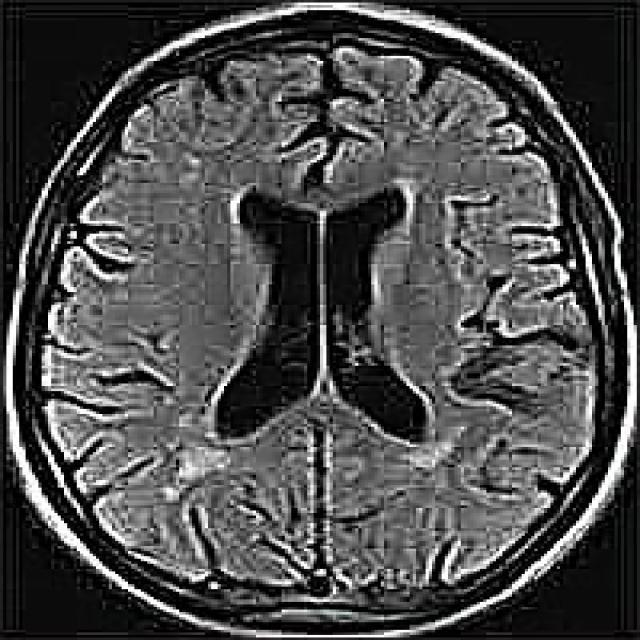notumor: (6, 3, 634, 635)
